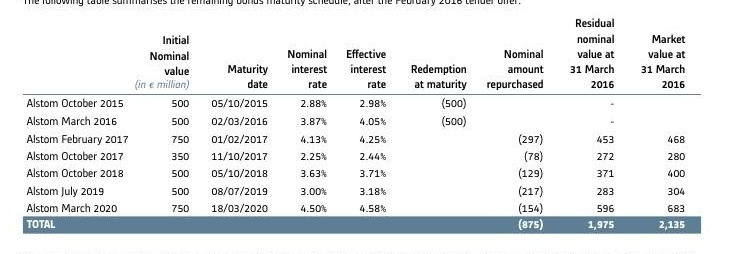table: (0, 0, 730, 254)
